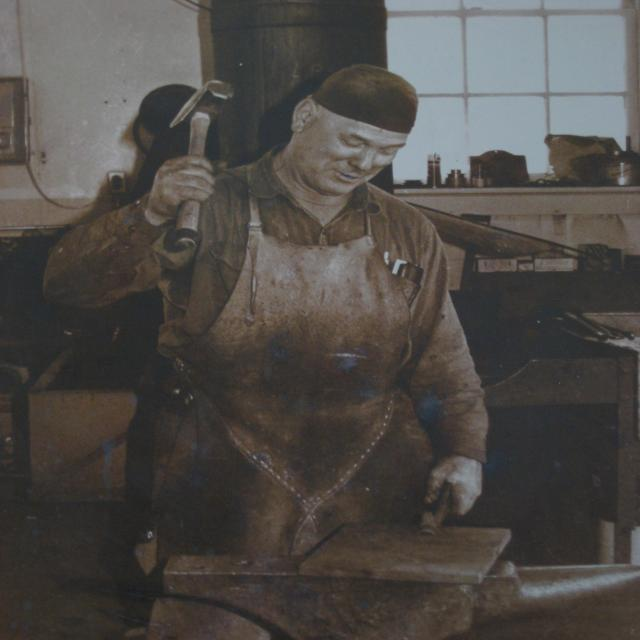hammer: (146, 70, 237, 265)
